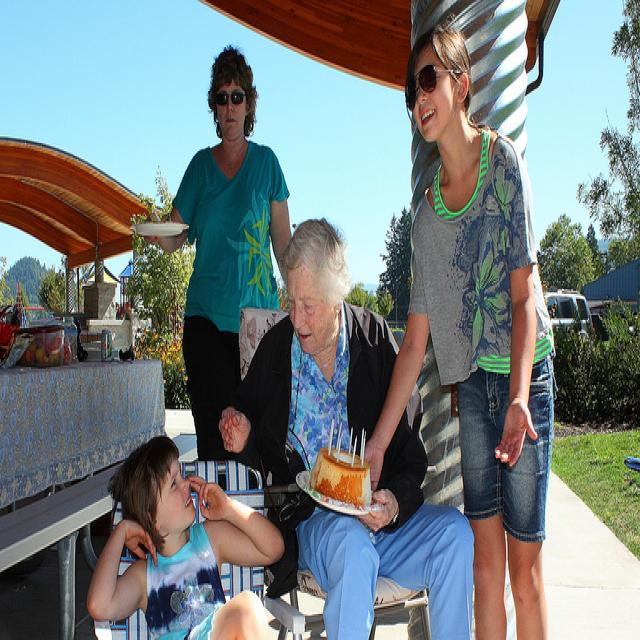chair: (239, 309, 464, 626), (111, 462, 266, 639)
dining table: (0, 355, 165, 513)
